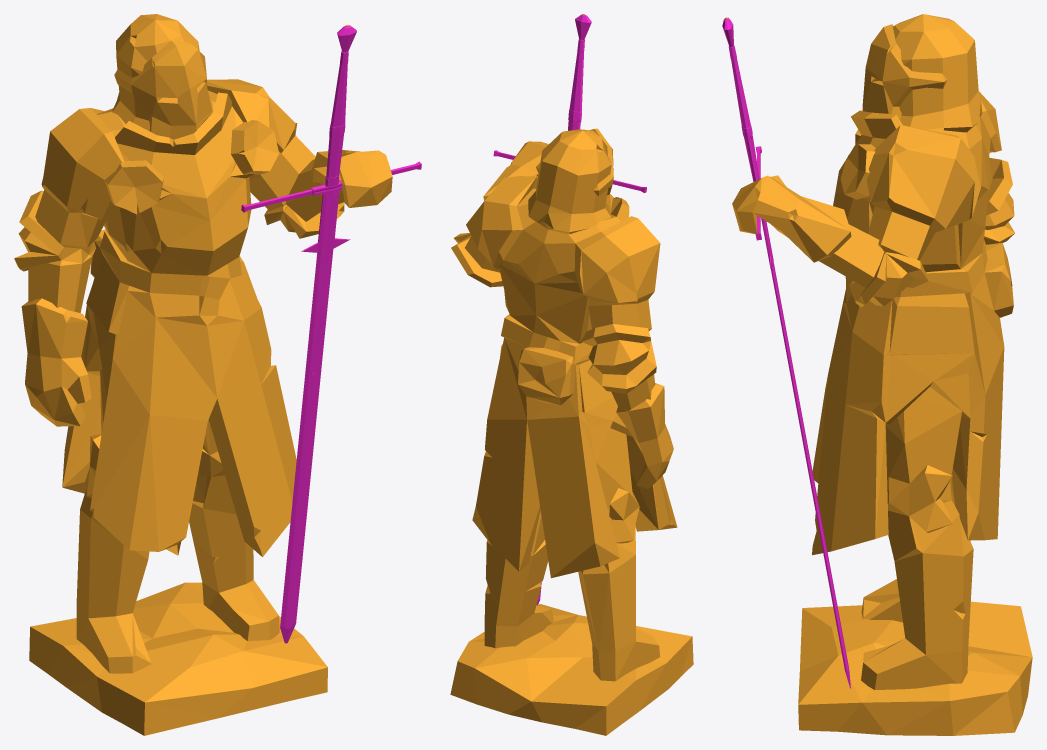
Rendered from SM_Statue_Juggernout_Standing_Fantasy.fbx.
3 views of the same model, side by side, from view 1: azimuth 30°, elevation 25°; view 2: azimuth 150°, elevation 25°; view 3: azimuth 270°, elevation 25° (orthographic). The views are drawn at different scales.
Visible parts, largest first — view 1: SM_Statue_Juggernout_Standing_Fantasy; view 2: SM_Statue_Juggernout_Standing_Fantasy; view 3: SM_Statue_Juggernout_Standing_Fantasy.
Boxes of the visible parts, x1,y1,x2,y2 form: SM_Statue_Juggernout_Standing_Fantasy: (14, 14, 421, 735); SM_Statue_Juggernout_Standing_Fantasy: (450, 14, 693, 735); SM_Statue_Juggernout_Standing_Fantasy: (722, 14, 1032, 735).
Bounding box in the file's own units: 0.925 × 2.08 × 0.8244.
